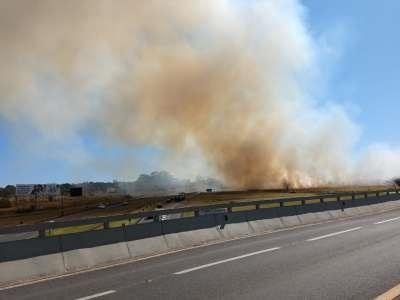smoke: (4, 1, 118, 74), (149, 53, 241, 135), (232, 135, 292, 188)
